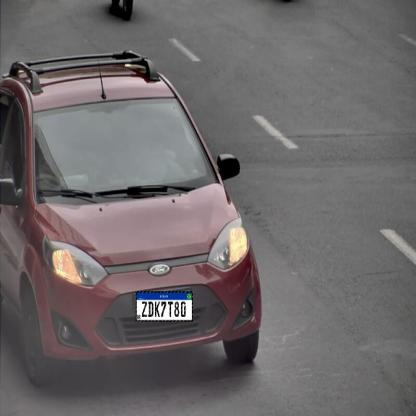PlacaM: (136, 291, 193, 322)
